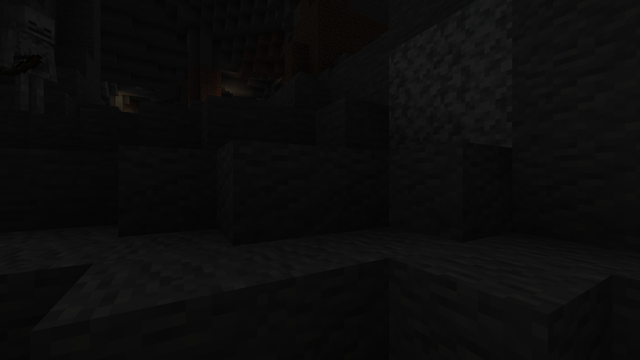squelettes: (4, 3, 55, 115)
